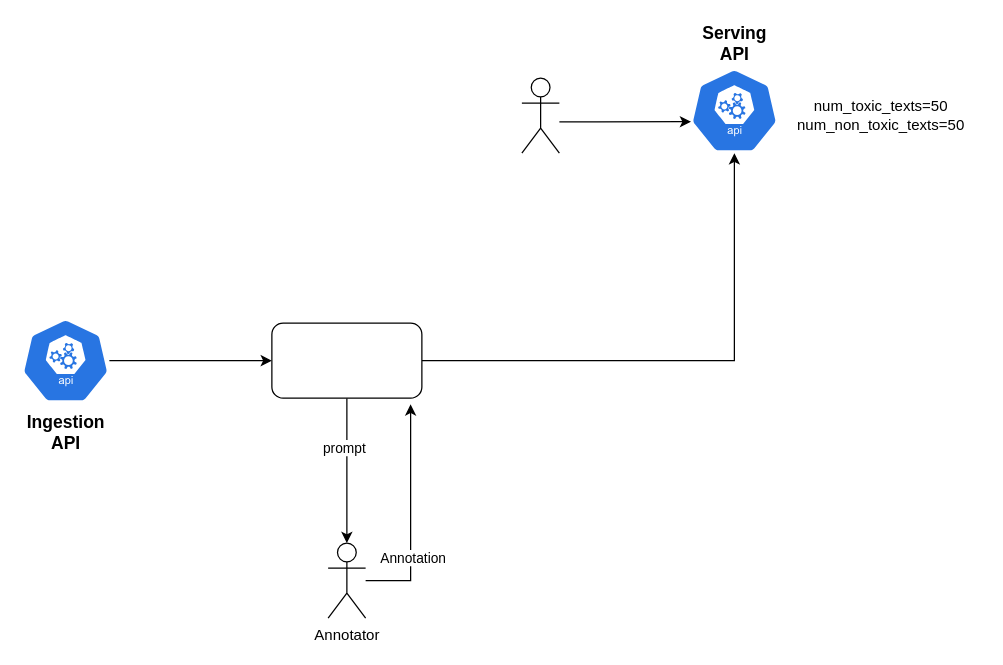
Some shapes in this 1003 by 665 pixel diagram are drawn without their labels. The centre of each missing label's shape, as x and y in pixels:
"ARGILLA" belongs at [346,360].
"End User" belongs at [540,115].
